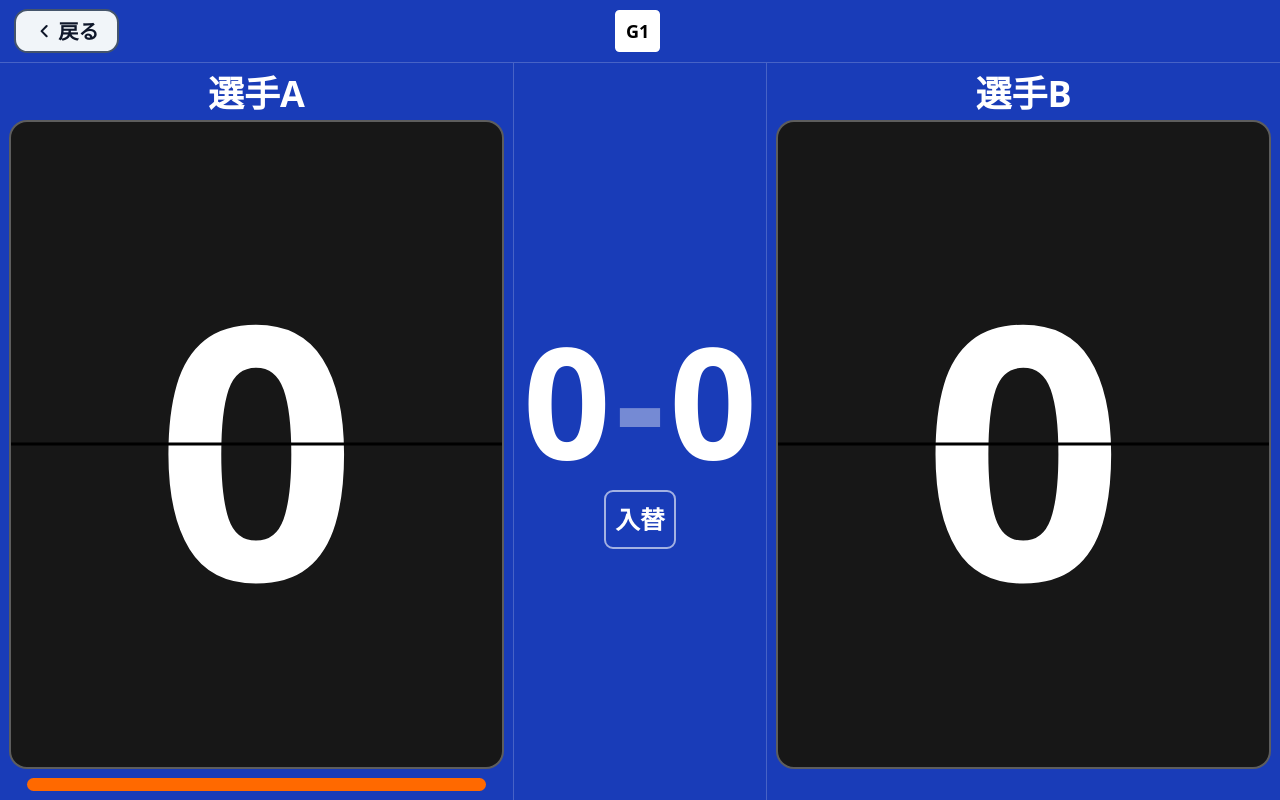
Test: ScoreboardScreen › 相手が直前に得点していても自側の減点ができる
Click the button named "選手B を1増やす". click: [1024, 283]
box: [778, 122, 1269, 444]
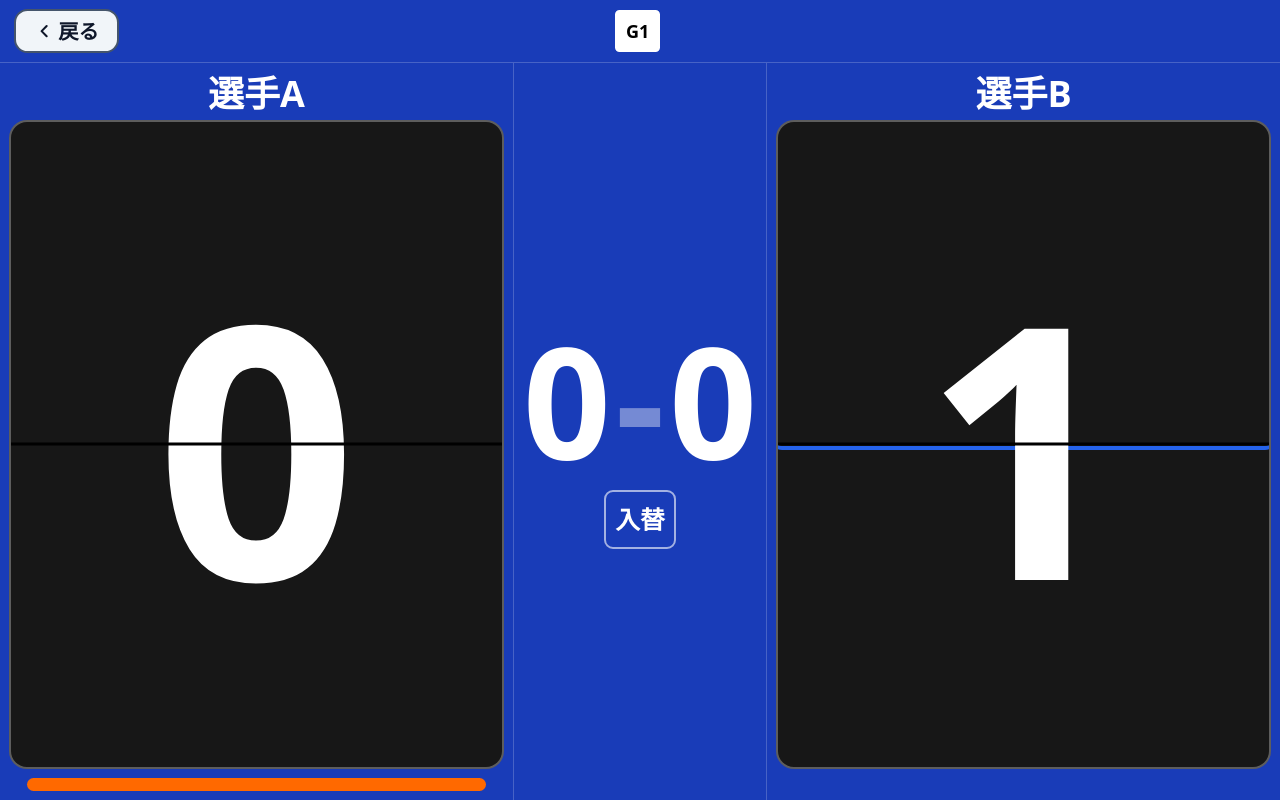
expect the button named "選手A を1減らす" is disabled: met, box [11, 444, 502, 766]
expect the text "1" is shown: met, box [923, 268, 1124, 620]
expect the button named "選手B を1減らす" is enabled: met, box [778, 444, 1269, 766]
Click the button named "選手A を1増やす". click: [256, 283]
box: [11, 122, 502, 444]
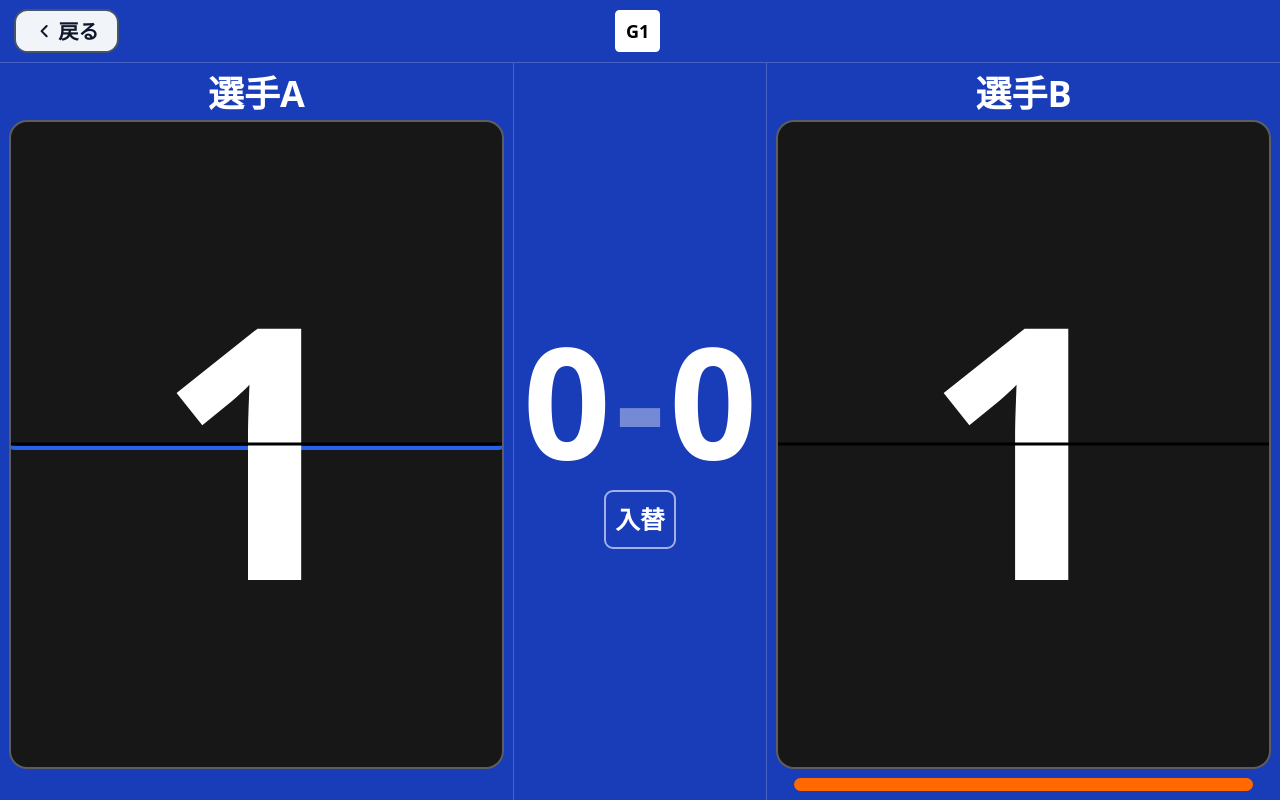
expect the button named "選手B を1減らす" is enabled: met
expect the button named "選手A を1減らす" is enabled: met, box [11, 444, 502, 766]
Click the button named "選手B を1減らす". click: [1024, 605]
box: [778, 444, 1269, 766]
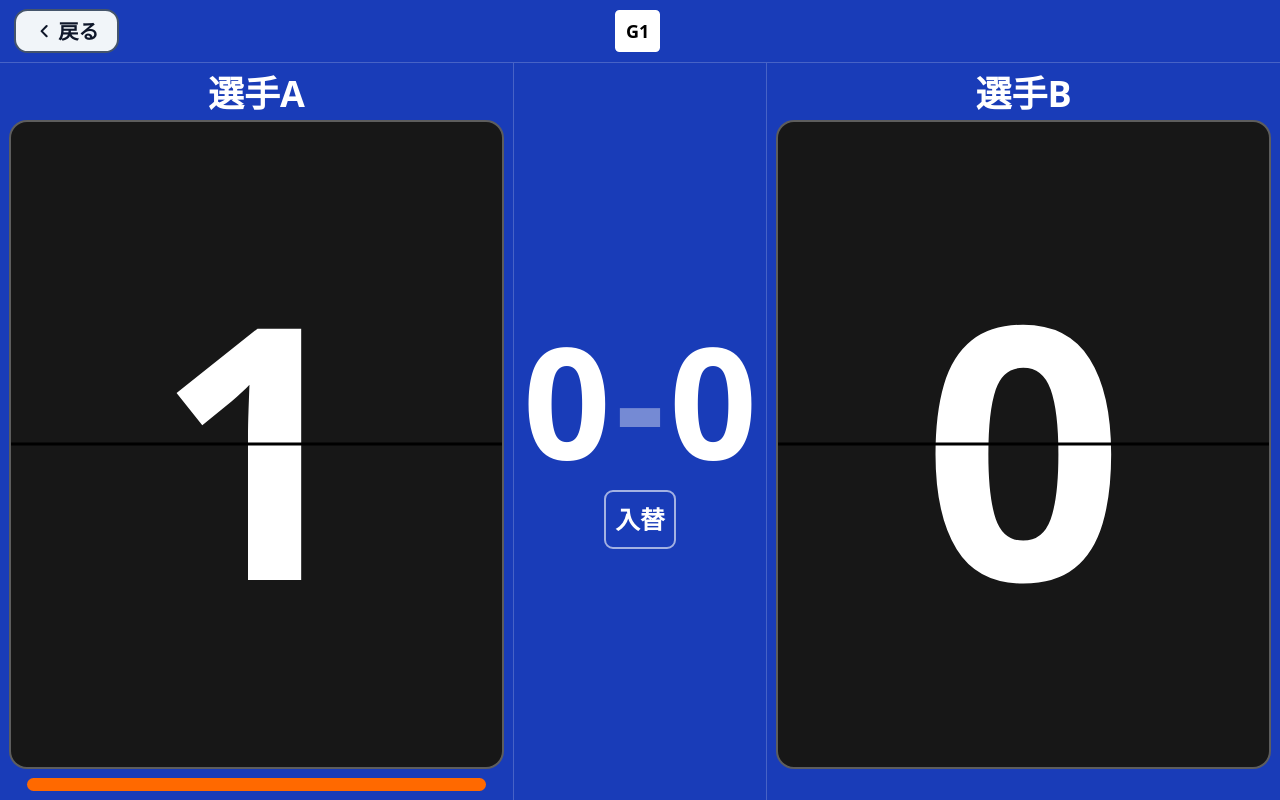
expect the button named "選手B を1減らす" is disabled: met, box [778, 444, 1269, 766]
